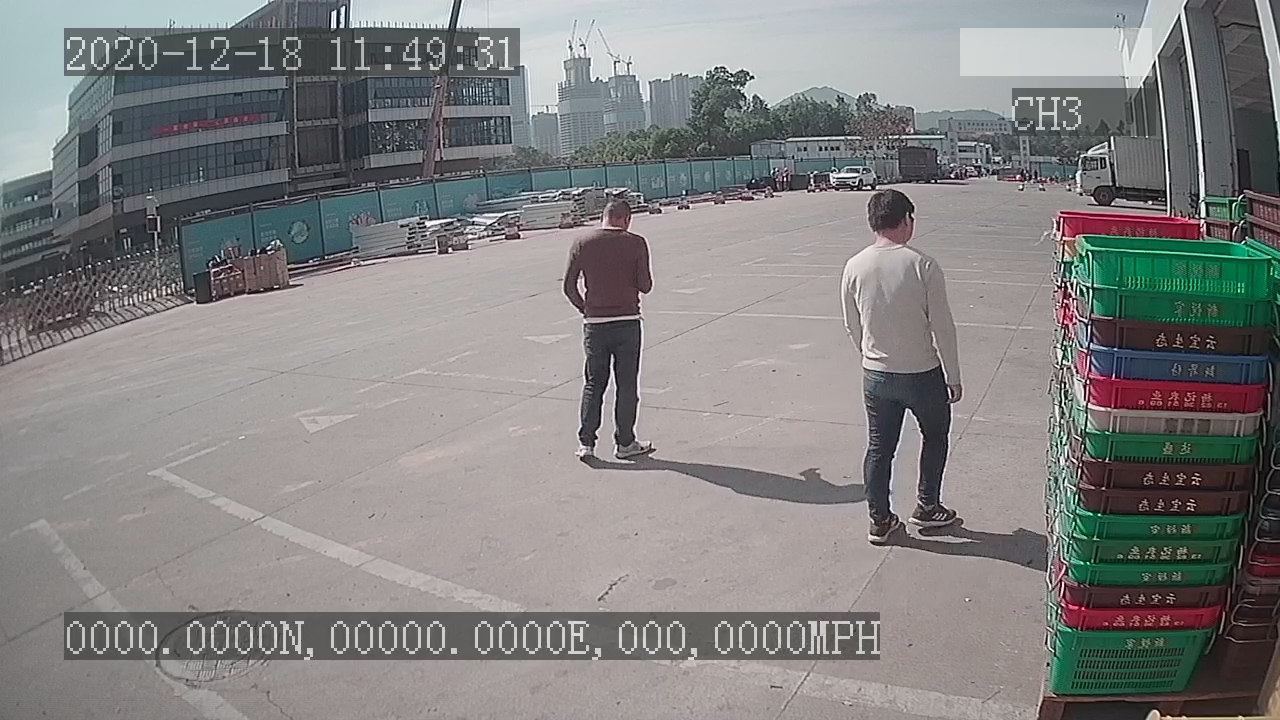person: (834, 185, 968, 551), (560, 195, 665, 463)
